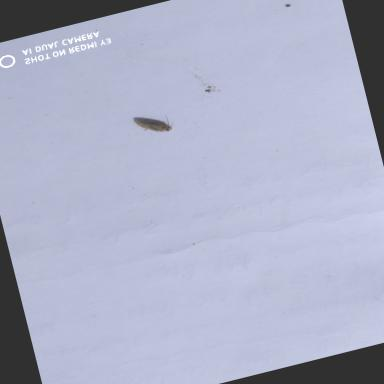pbw: (134, 110, 172, 138)
